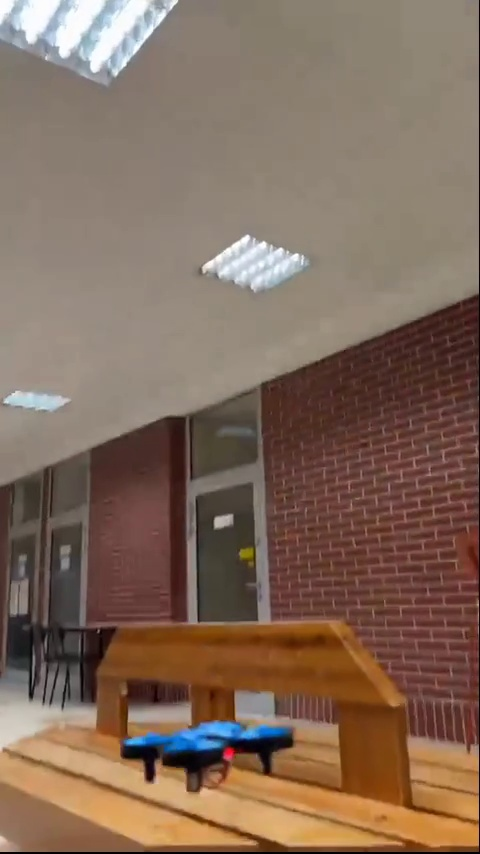drone: (122, 719, 295, 784)
